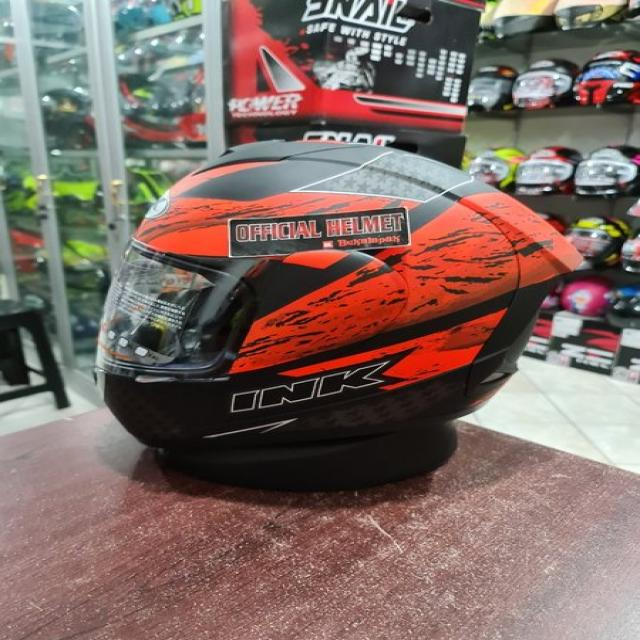Helmet: (95, 139, 583, 494)
